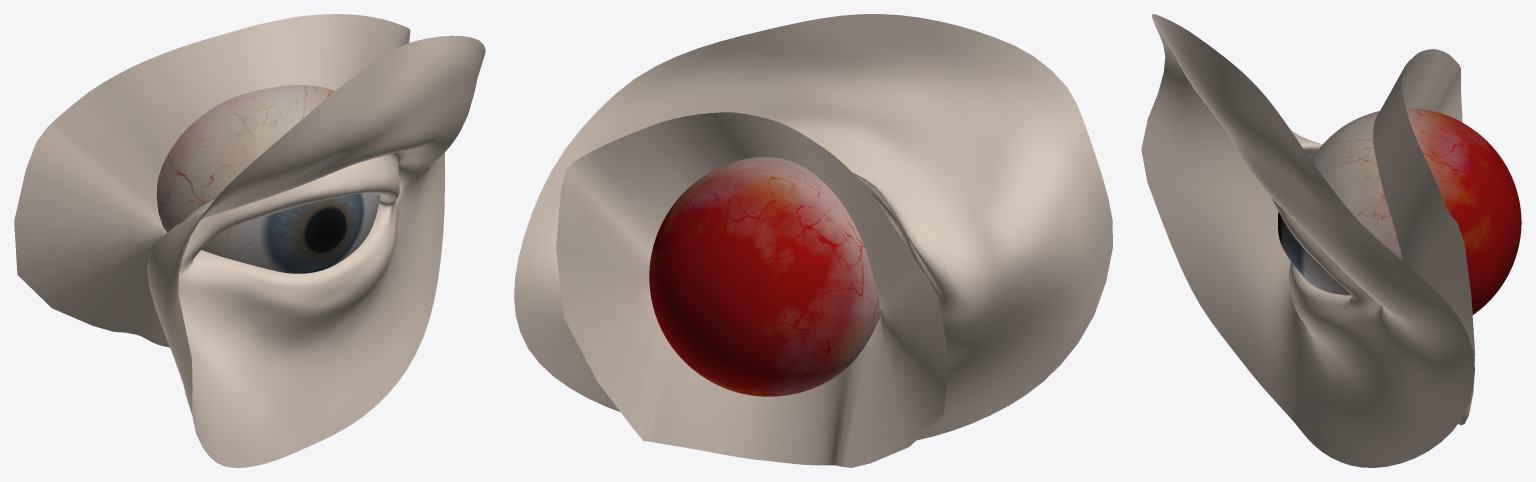
Rendered from eye_face 1.fbx.
3 views of the same model, side by side, from view 1: azimuth 30°, elevation 25°; view 2: azimuth 150°, elevation 25°; view 3: azimuth 270°, elevation 25° (orthographic). The views are drawn at different scales.
Visible parts, largest first — view 1: retoplogy, eye_low.001; view 2: retoplogy, eye_low.001; view 3: retoplogy, eye_low.001.
Boxes of the visible parts, x1,y1,x2,y2 form: retoplogy: (14, 14, 485, 467); eye_low.001: (156, 85, 380, 273); retoplogy: (514, 14, 1112, 467); eye_low.001: (649, 157, 881, 396); retoplogy: (1141, 14, 1475, 467); eye_low.001: (1278, 108, 1521, 314).
Bounding box in the file's own units: 21.09 × 18.9 × 17.02.
